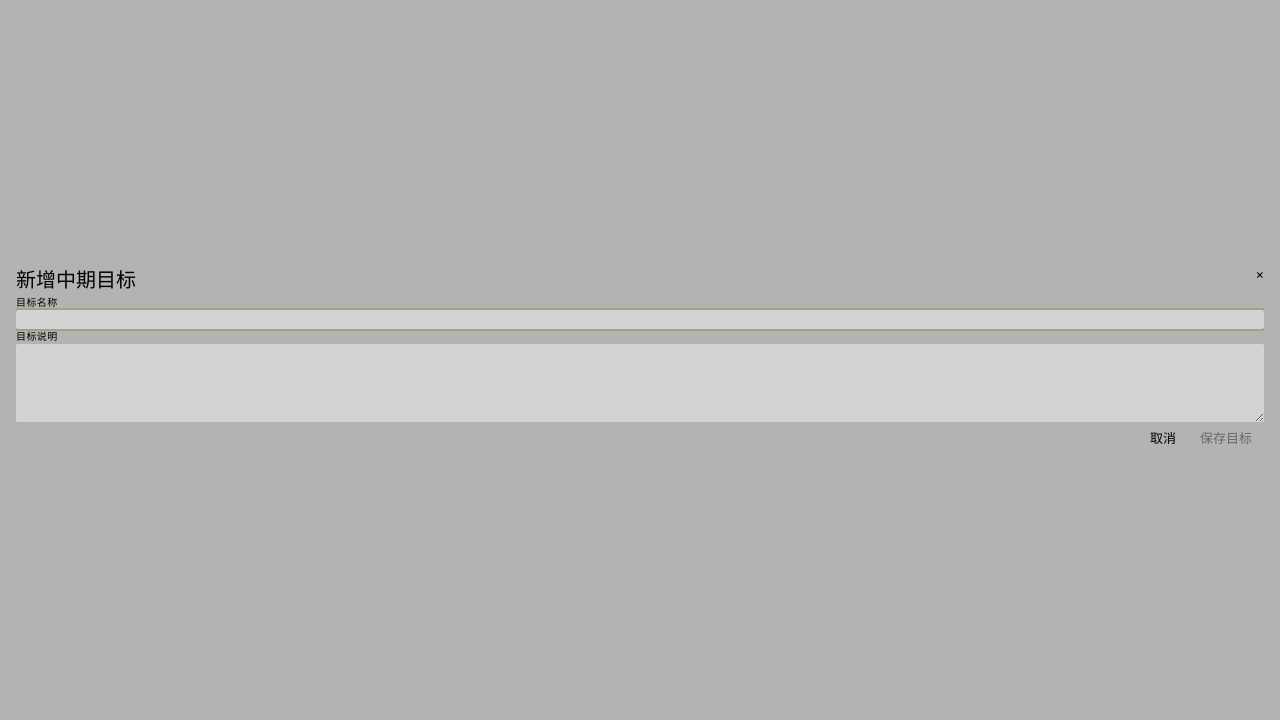
retains input on save failure and blocks empty or repeated submissions
Expected: the button "保存目标" is disabled, [1188,422,1264,455]
Type "  新目标  " into the field labelled "目标名称". click: (640, 320)
box: [16,310,1264,329]
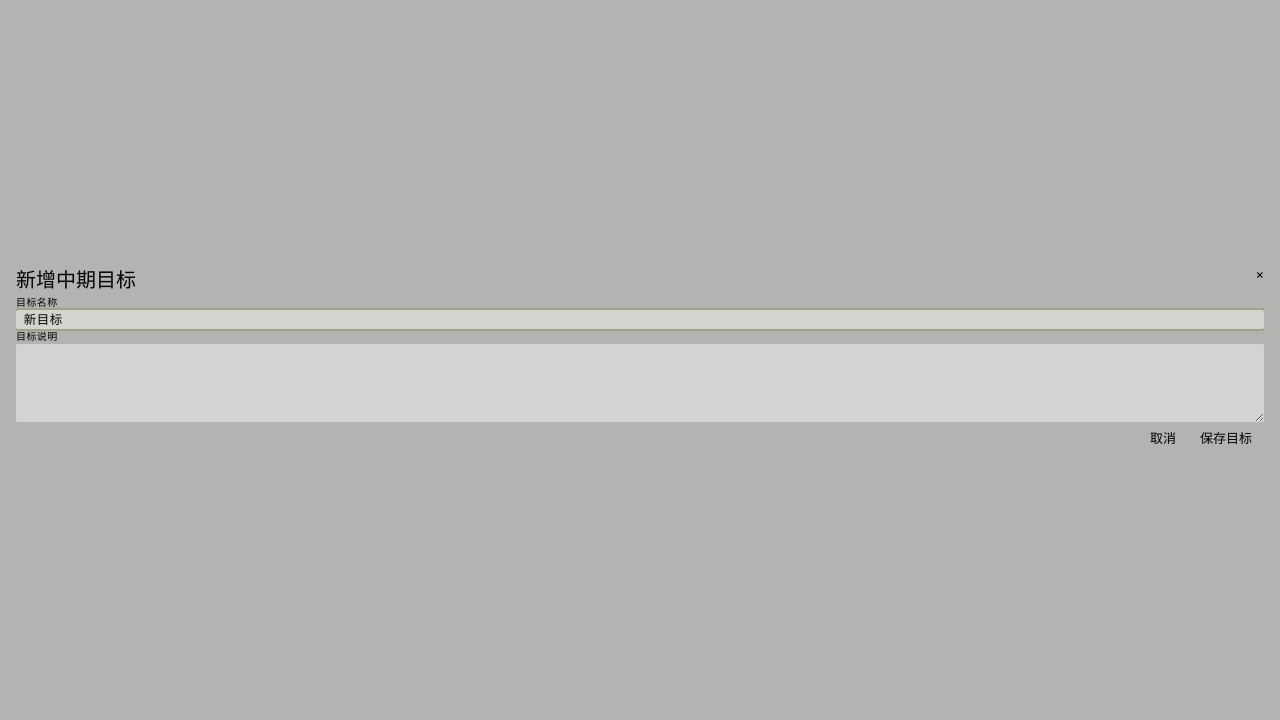
Click the button "保存目标". click: click(1226, 438)
box: [1188,422,1264,455]
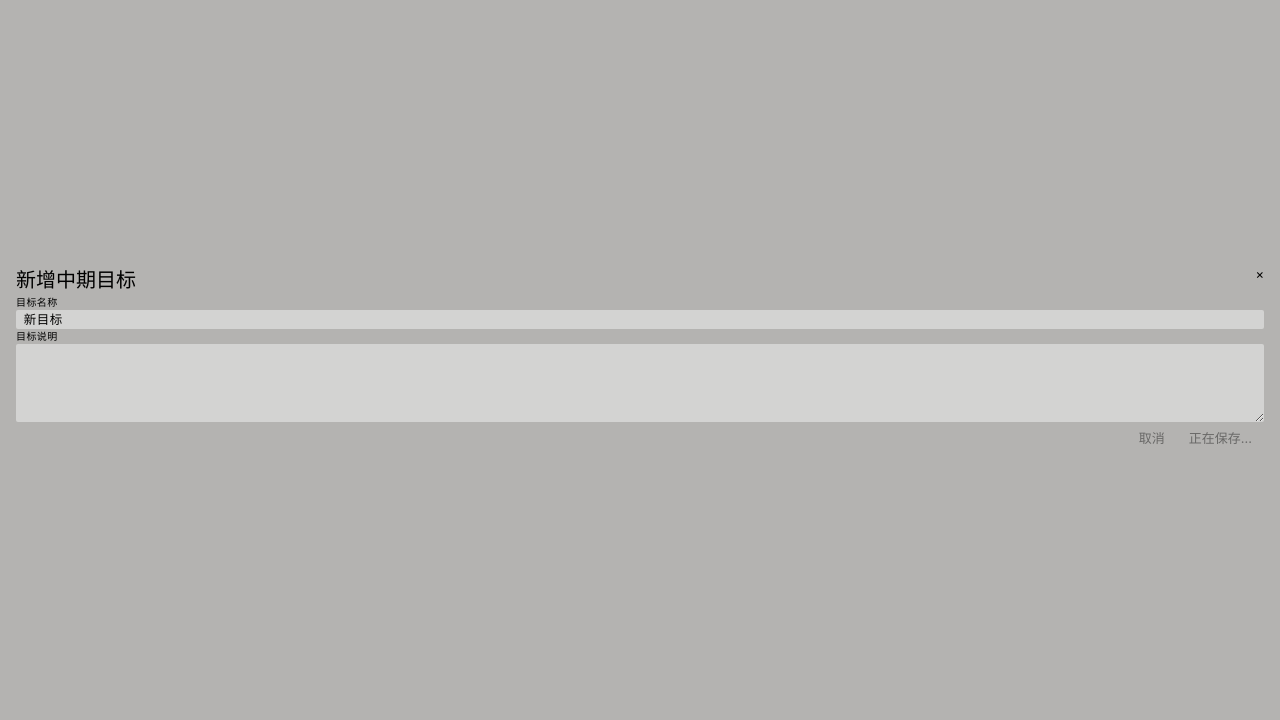
Click the button named "保存目标". click: click(1220, 438)
box: [1177,422,1264,455]
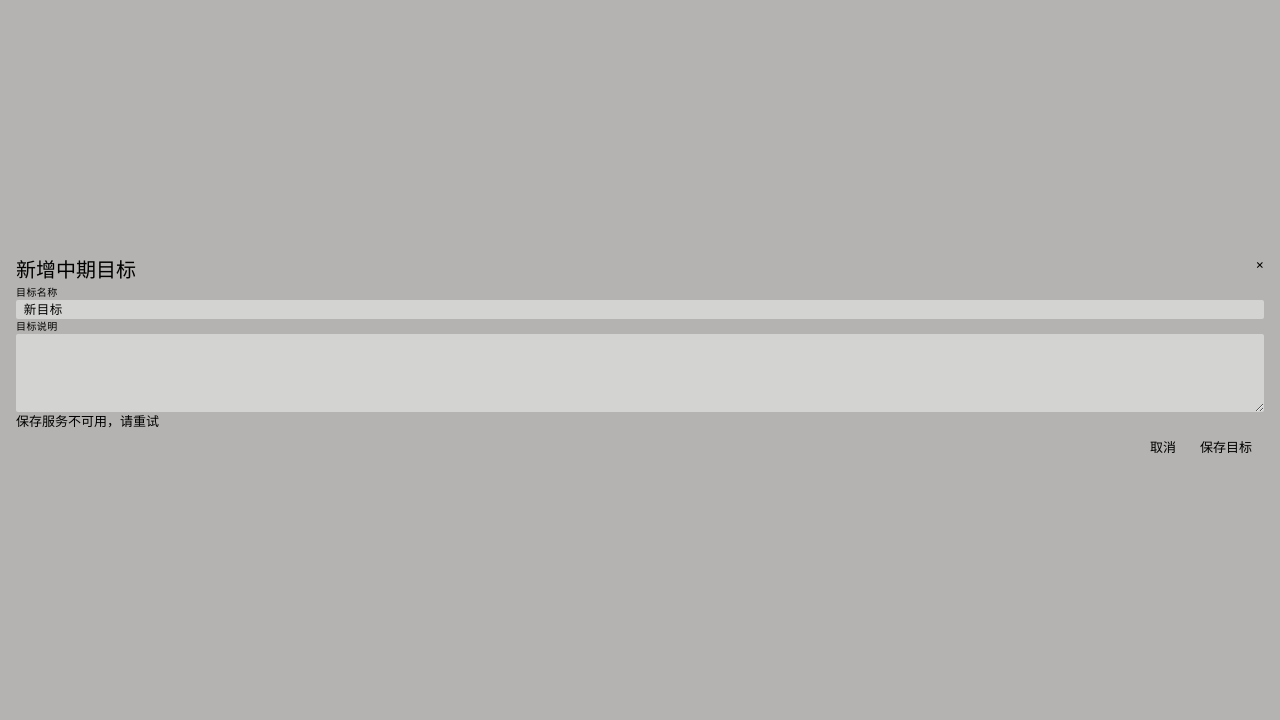
Expected: the message shows "保存服务不可用", [16,413,159,429]
Expected: the button "保存目标" is enabled, [1188,431,1264,465]
